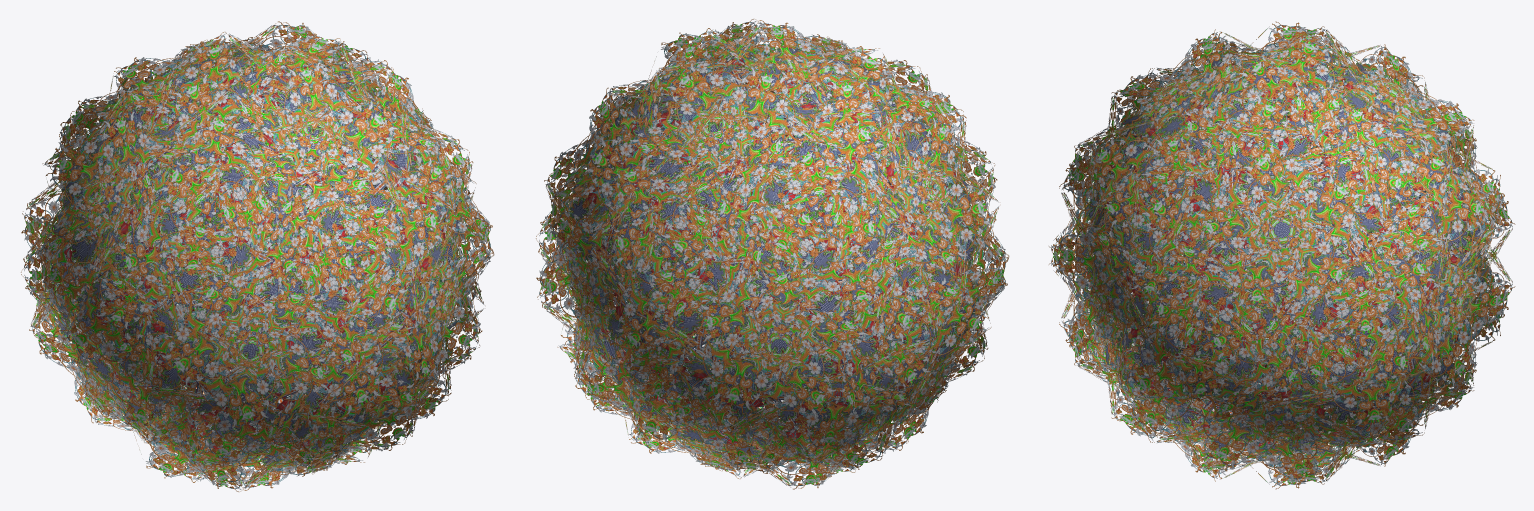
The model's file is 6GreatPentagonalHexecontahedron.gltf.
3 renders of one model, left to right at view 1: azimuth 30°, elevation 25°; view 2: azimuth 150°, elevation 25°; view 3: azimuth 270°, elevation 25°, orthographic.
Parts seen in each view (by area): view 1: GreatPentagonalHexecontahedron8; view 2: GreatPentagonalHexecontahedron8; view 3: GreatPentagonalHexecontahedron8.
Part boxes in pixels (left/top/right/bottom): GreatPentagonalHexecontahedron8: left=21, top=21, right=494, bottom=491; GreatPentagonalHexecontahedron8: left=536, top=19, right=1009, bottom=489; GreatPentagonalHexecontahedron8: left=1049, top=21, right=1515, bottom=489.
Size of the model in its own units: 1.42 by 1.42 by 1.42.
Materials: 1 (1 with a texture image).
